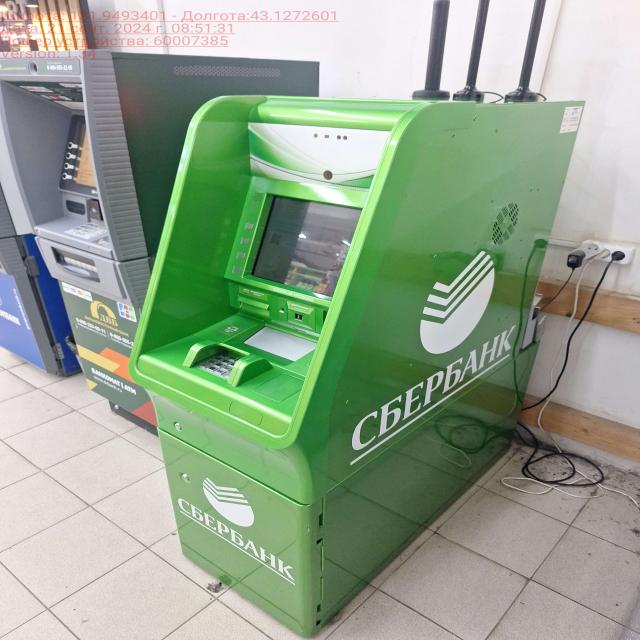bank: (132, 91, 590, 640)
